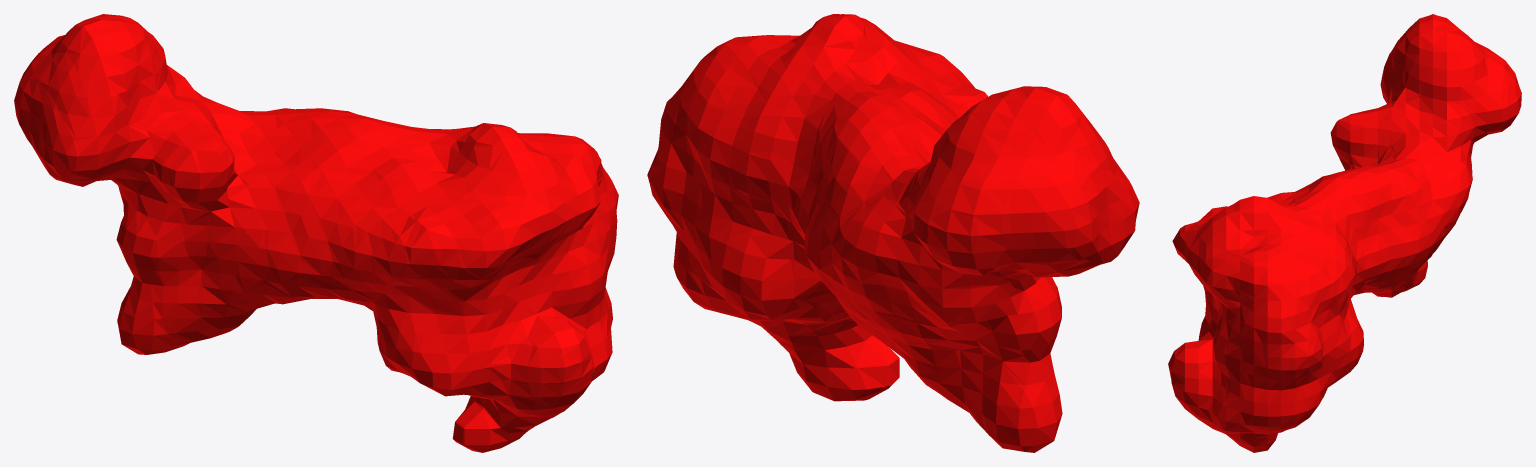
Rendered from aspA_coarse.dae.
The picture shows the model from 3 angles, left to right: view 1: azimuth 30°, elevation 25°; view 2: azimuth 150°, elevation 25°; view 3: azimuth 270°, elevation 25°; orthographic projection. The views are drawn at different scales.
Parts seen in each view (by area): view 1: aspA; view 2: aspA; view 3: aspA.
Part boxes in pixels (bbox=[...]): aspA: bbox=[14, 14, 618, 452]; aspA: bbox=[647, 14, 1139, 452]; aspA: bbox=[1168, 14, 1521, 452].
Size of the model in its own units: 92.33 by 75.9 by 75.14.
